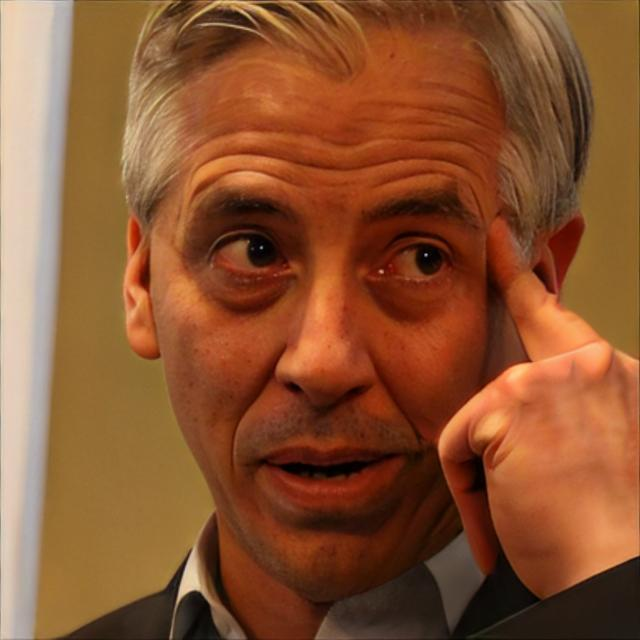surprise: (151, 17, 524, 600)
